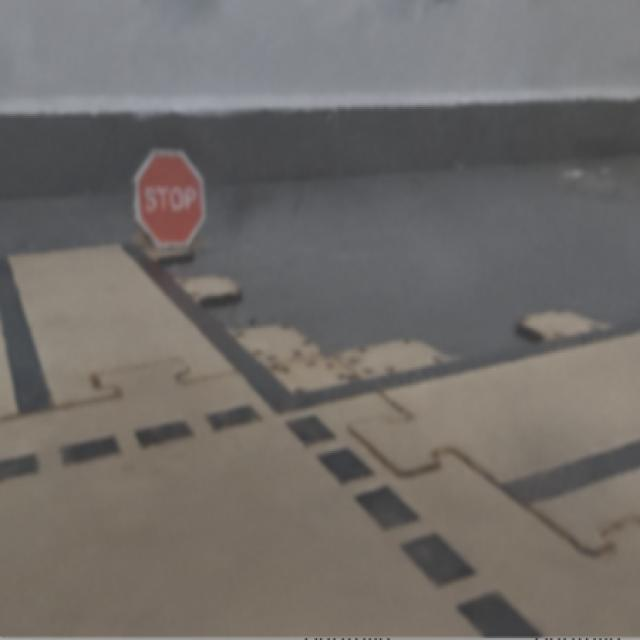STOP: (135, 150, 205, 246)
